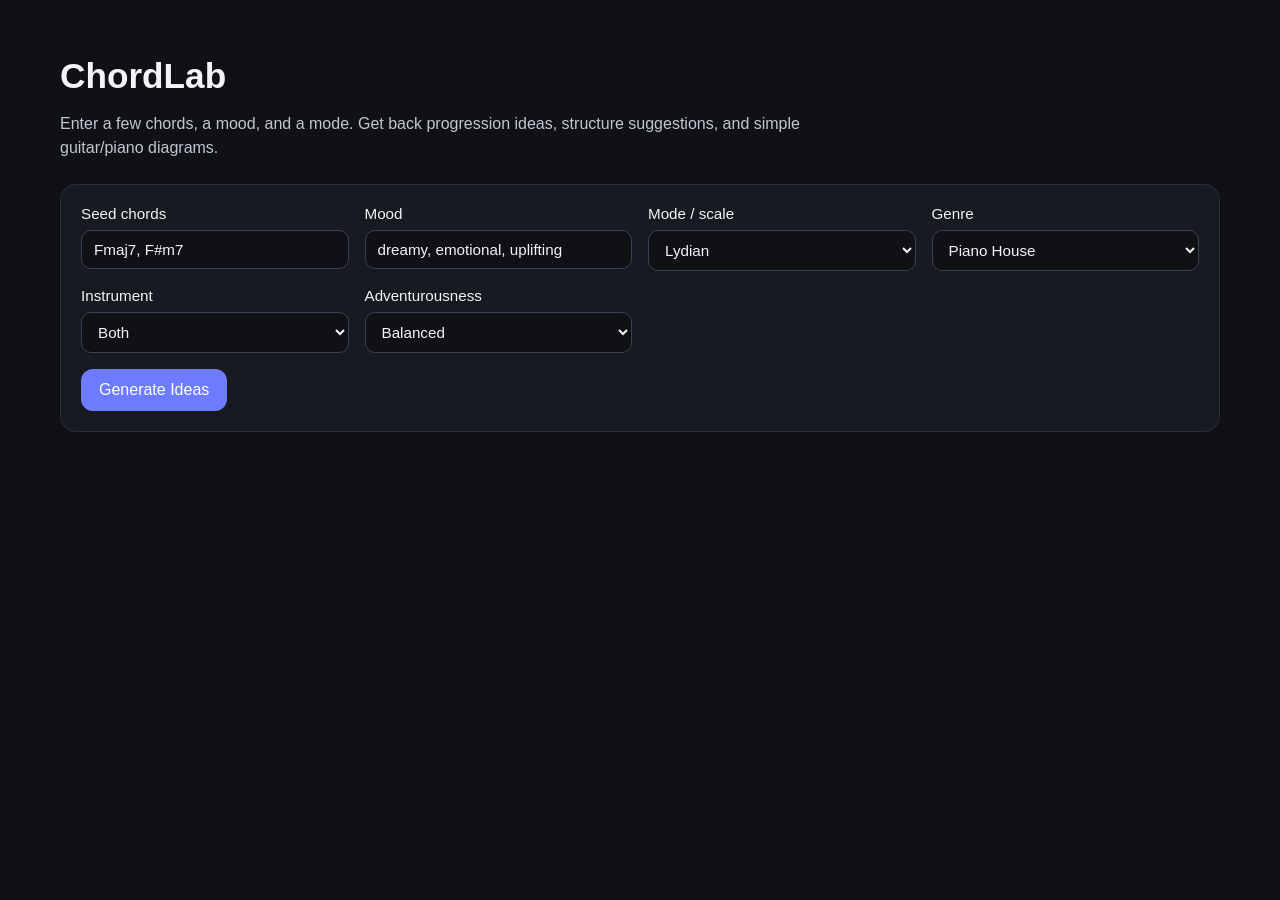
Scenario: HomePage › submits and renders API results
The image size is (1280, 900).
Click the button "Generate Ideas" at (154, 390), box [81,369,227,411]
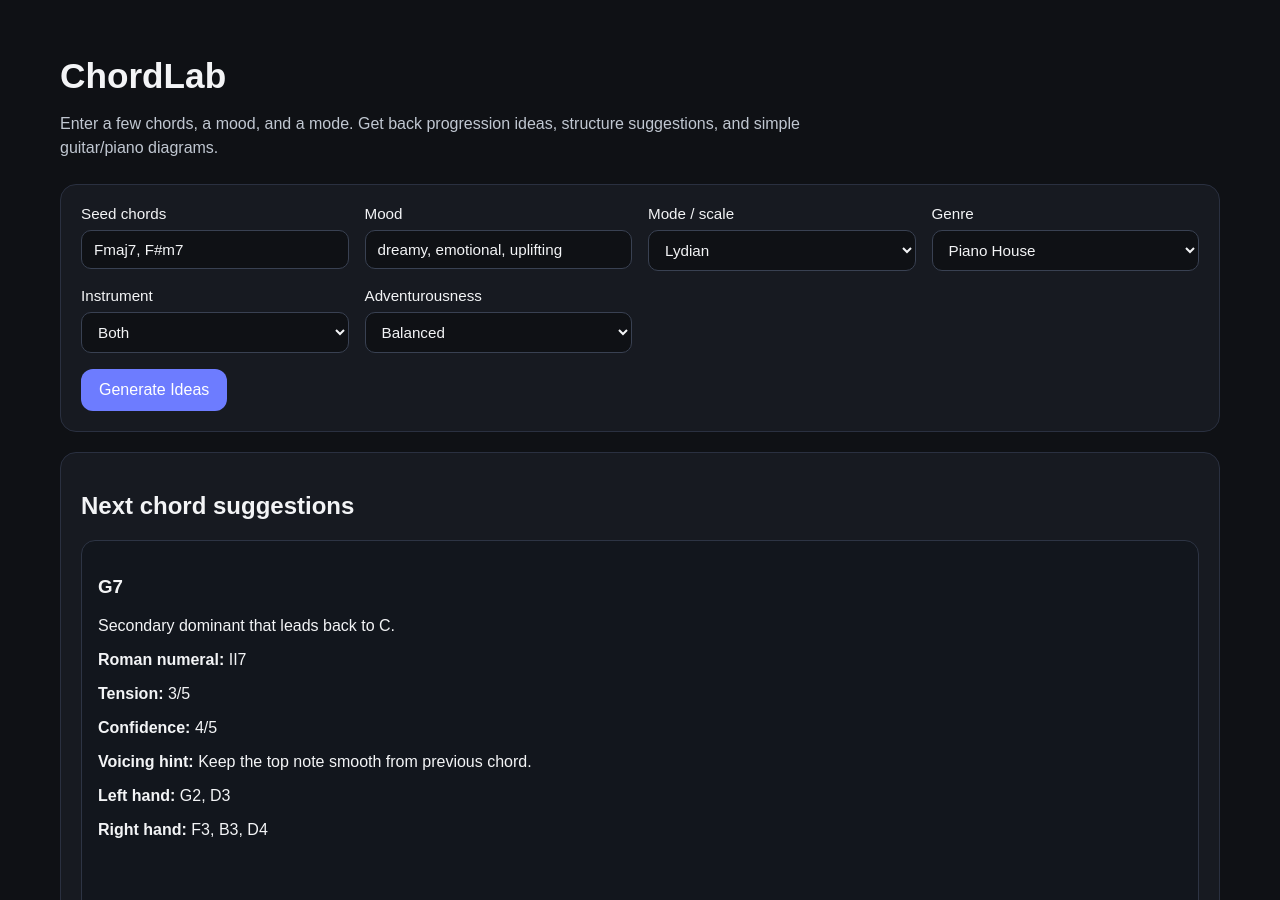
Check: the heading "Next chord suggestions" is shown, box [81,492,354,520]
Check: the heading "G7" is shown, box [98,576,123,597]
